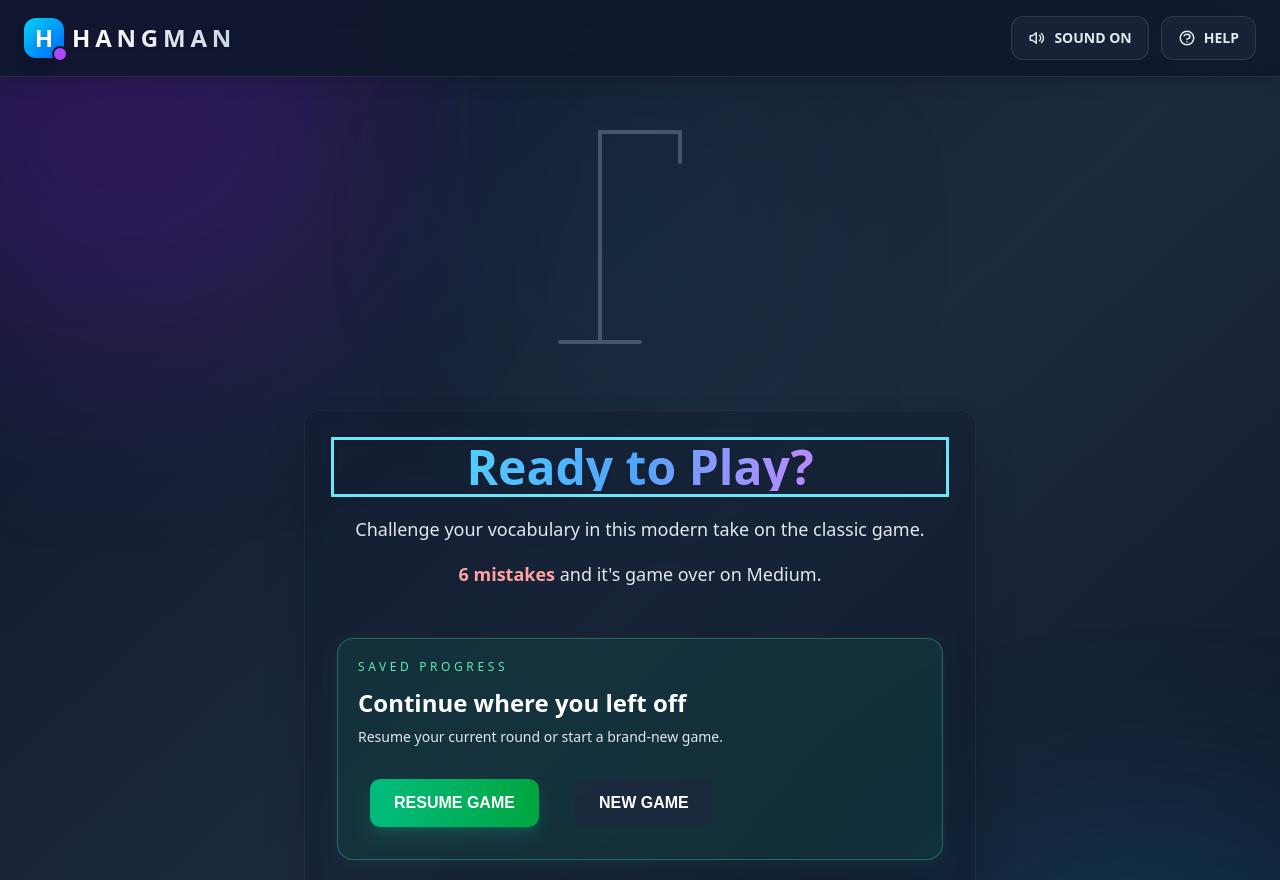
Test: shows resume prompt and restores a saved in-progress game
This screenshot has width=1280, height=880.
Check: the heading "Continue where you left off" is shown, box left=358, top=686, right=686, bottom=718
Click the button "Resume Game".
click(454, 802)  # box left=370, top=778, right=539, bottom=826
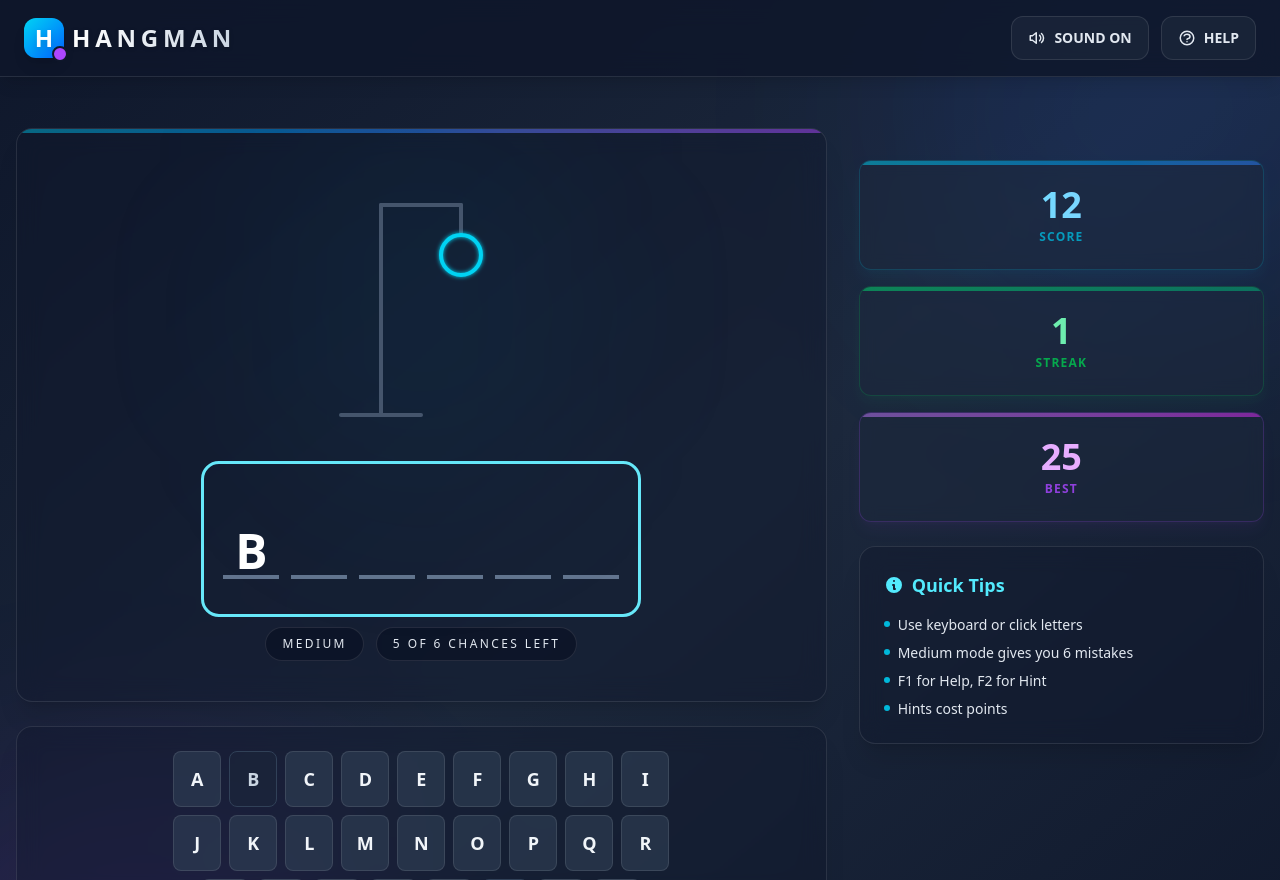
Check: the text "12" is shown, box left=884, top=185, right=1239, bottom=225
Check: the text "5 of 6 chances left" is shown, box left=376, top=627, right=577, bottom=661
